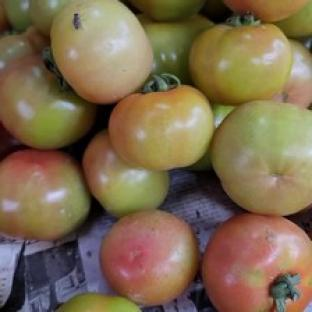Tomato: (211, 101, 311, 215), (201, 214, 311, 311), (99, 209, 199, 306), (109, 77, 213, 169), (190, 14, 292, 104), (0, 55, 97, 149), (0, 150, 90, 240), (83, 130, 169, 217), (140, 14, 213, 83), (273, 39, 311, 107), (0, 27, 48, 76), (58, 293, 140, 311), (0, 122, 26, 160), (187, 145, 211, 171)
